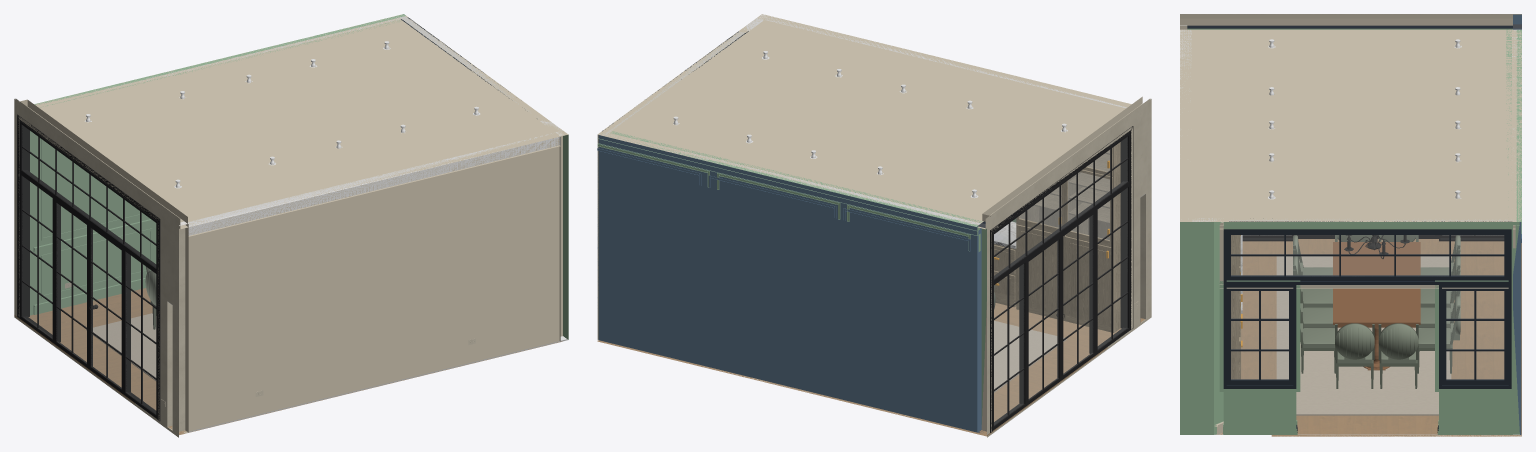
Rendered from dining-room-52e9f5fb88ce.glb.
3 views of the same model, side by side, from view 1: azimuth 30°, elevation 25°; view 2: azimuth 150°, elevation 25°; view 3: azimuth 270°, elevation 25° (orthographic). The views are drawn at different scales.
Visible parts, largest first — view 1: dining-room-d999b7e09afcf2f4, dining-room-2575515a05775d9e, dining-room-08d72923bcfd3529, dining-room-b19b106fc304963c, dining-room-6ee65e99bea3721a, dining-room-3b0077416469e01b, dining-room-a6417c3a9acf4891, dining-room-9d465714b306dbae, dining-room-33ee0b466567e5f0, dining-room-871e2e831c6190fa, dining-room-d33eebe572d154f2, dining-room-8b1c368f4645b32b (+7 smaller); view 2: dining-room-b19b106fc304963c, dining-room-2575515a05775d9e, dining-room-08d72923bcfd3529, dining-room-6ee65e99bea3721a, dining-room-3b0077416469e01b, dining-room-1bf7a67d8ce0efe5, dining-room-039192b0560cfac3, dining-room-33ee0b466567e5f0, dining-room-871e2e831c6190fa, dining-room-2c2ea765d431e5a6, dining-room-478b3d72e55116fc, dining-room-8b1c368f4645b32b (+10 smaller); view 3: dining-room-2575515a05775d9e, dining-room-98d6adcddba0b27e, dining-room-31023c09b8d733cb, dining-room-3b0077416469e01b, dining-room-871e2e831c6190fa, dining-room-04e6278159fe4ee8, dining-room-ad953dfeb3e994ba, dining-room-9b21989b25895c4a, dining-room-1ce065e69c1a4746, dining-room-8d0c89bf27e198bd, dining-room-33ee0b466567e5f0, dining-room-d33eebe572d154f2 (+18 smaller).
Part boxes in pixels (bbox=[...]): dining-room-d999b7e09afcf2f4: bbox=[188, 133, 559, 431]; dining-room-2575515a05775d9e: bbox=[15, 14, 568, 229]; dining-room-08d72923bcfd3529: bbox=[17, 114, 160, 421]; dining-room-b19b106fc304963c: bbox=[30, 17, 400, 315]; dining-room-6ee65e99bea3721a: bbox=[18, 109, 175, 432]; dining-room-3b0077416469e01b: bbox=[14, 288, 156, 403]; dining-room-a6417c3a9acf4891: bbox=[188, 136, 560, 236]; dining-room-9d465714b306dbae: bbox=[175, 221, 188, 434]; dining-room-33ee0b466567e5f0: bbox=[18, 99, 187, 225]; dining-room-871e2e831c6190fa: bbox=[86, 313, 156, 380]; dining-room-d33eebe572d154f2: bbox=[556, 132, 568, 341]; dining-room-8b1c368f4645b32b: bbox=[34, 14, 405, 104]; dining-room-b19b106fc304963c: bbox=[597, 133, 980, 432]; dining-room-2575515a05775d9e: bbox=[597, 14, 1150, 229]; dining-room-08d72923bcfd3529: bbox=[990, 126, 1133, 432]; dining-room-6ee65e99bea3721a: bbox=[982, 108, 1148, 431]; dining-room-3b0077416469e01b: bbox=[597, 319, 1107, 436]; dining-room-1bf7a67d8ce0efe5: bbox=[1016, 142, 1120, 332]; dining-room-039192b0560cfac3: bbox=[977, 216, 991, 434]; dining-room-33ee0b466567e5f0: bbox=[982, 96, 1151, 222]; dining-room-871e2e831c6190fa: bbox=[994, 320, 1066, 392]; dining-room-2c2ea765d431e5a6: bbox=[1069, 243, 1107, 320]; dining-room-478b3d72e55116fc: bbox=[1020, 231, 1057, 308]; dining-room-8b1c368f4645b32b: bbox=[597, 138, 979, 235]; dining-room-2575515a05775d9e: bbox=[1180, 14, 1521, 221]; dining-room-98d6adcddba0b27e: bbox=[1223, 229, 1511, 284]; dining-room-31023c09b8d733cb: bbox=[1223, 219, 1521, 434]; dining-room-3b0077416469e01b: bbox=[1271, 239, 1521, 436]; dining-room-871e2e831c6190fa: bbox=[1276, 256, 1451, 415]; dining-room-04e6278159fe4ee8: bbox=[1223, 285, 1296, 388]; dining-room-ad953dfeb3e994ba: bbox=[1439, 285, 1511, 388]; dining-room-9b21989b25895c4a: bbox=[1191, 218, 1223, 434]; dining-room-1ce065e69c1a4746: bbox=[1333, 242, 1420, 370]; dining-room-8d0c89bf27e198bd: bbox=[1216, 241, 1271, 434]; dining-room-33ee0b466567e5f0: bbox=[1180, 14, 1512, 25]; dining-room-d33eebe572d154f2: bbox=[1180, 222, 1191, 434].
Size of the model in its own units: 5.95 by 3.19 by 4.36.
40 materials, 10 textured.
